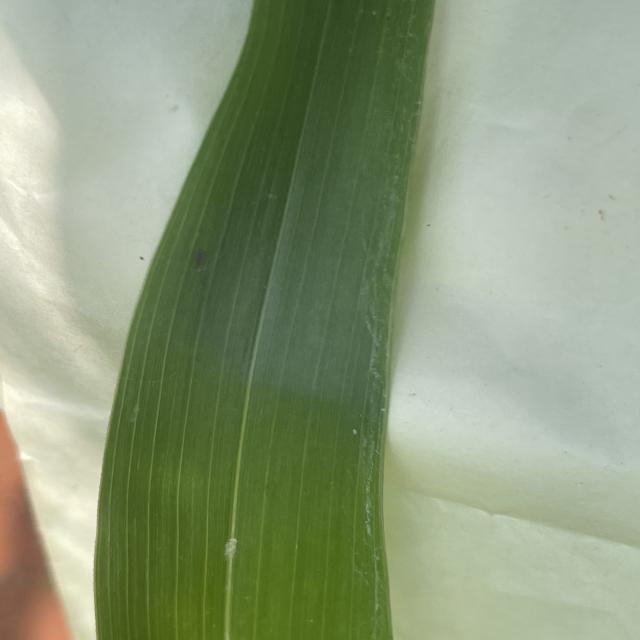millet_healthy: (95, 0, 419, 640)
